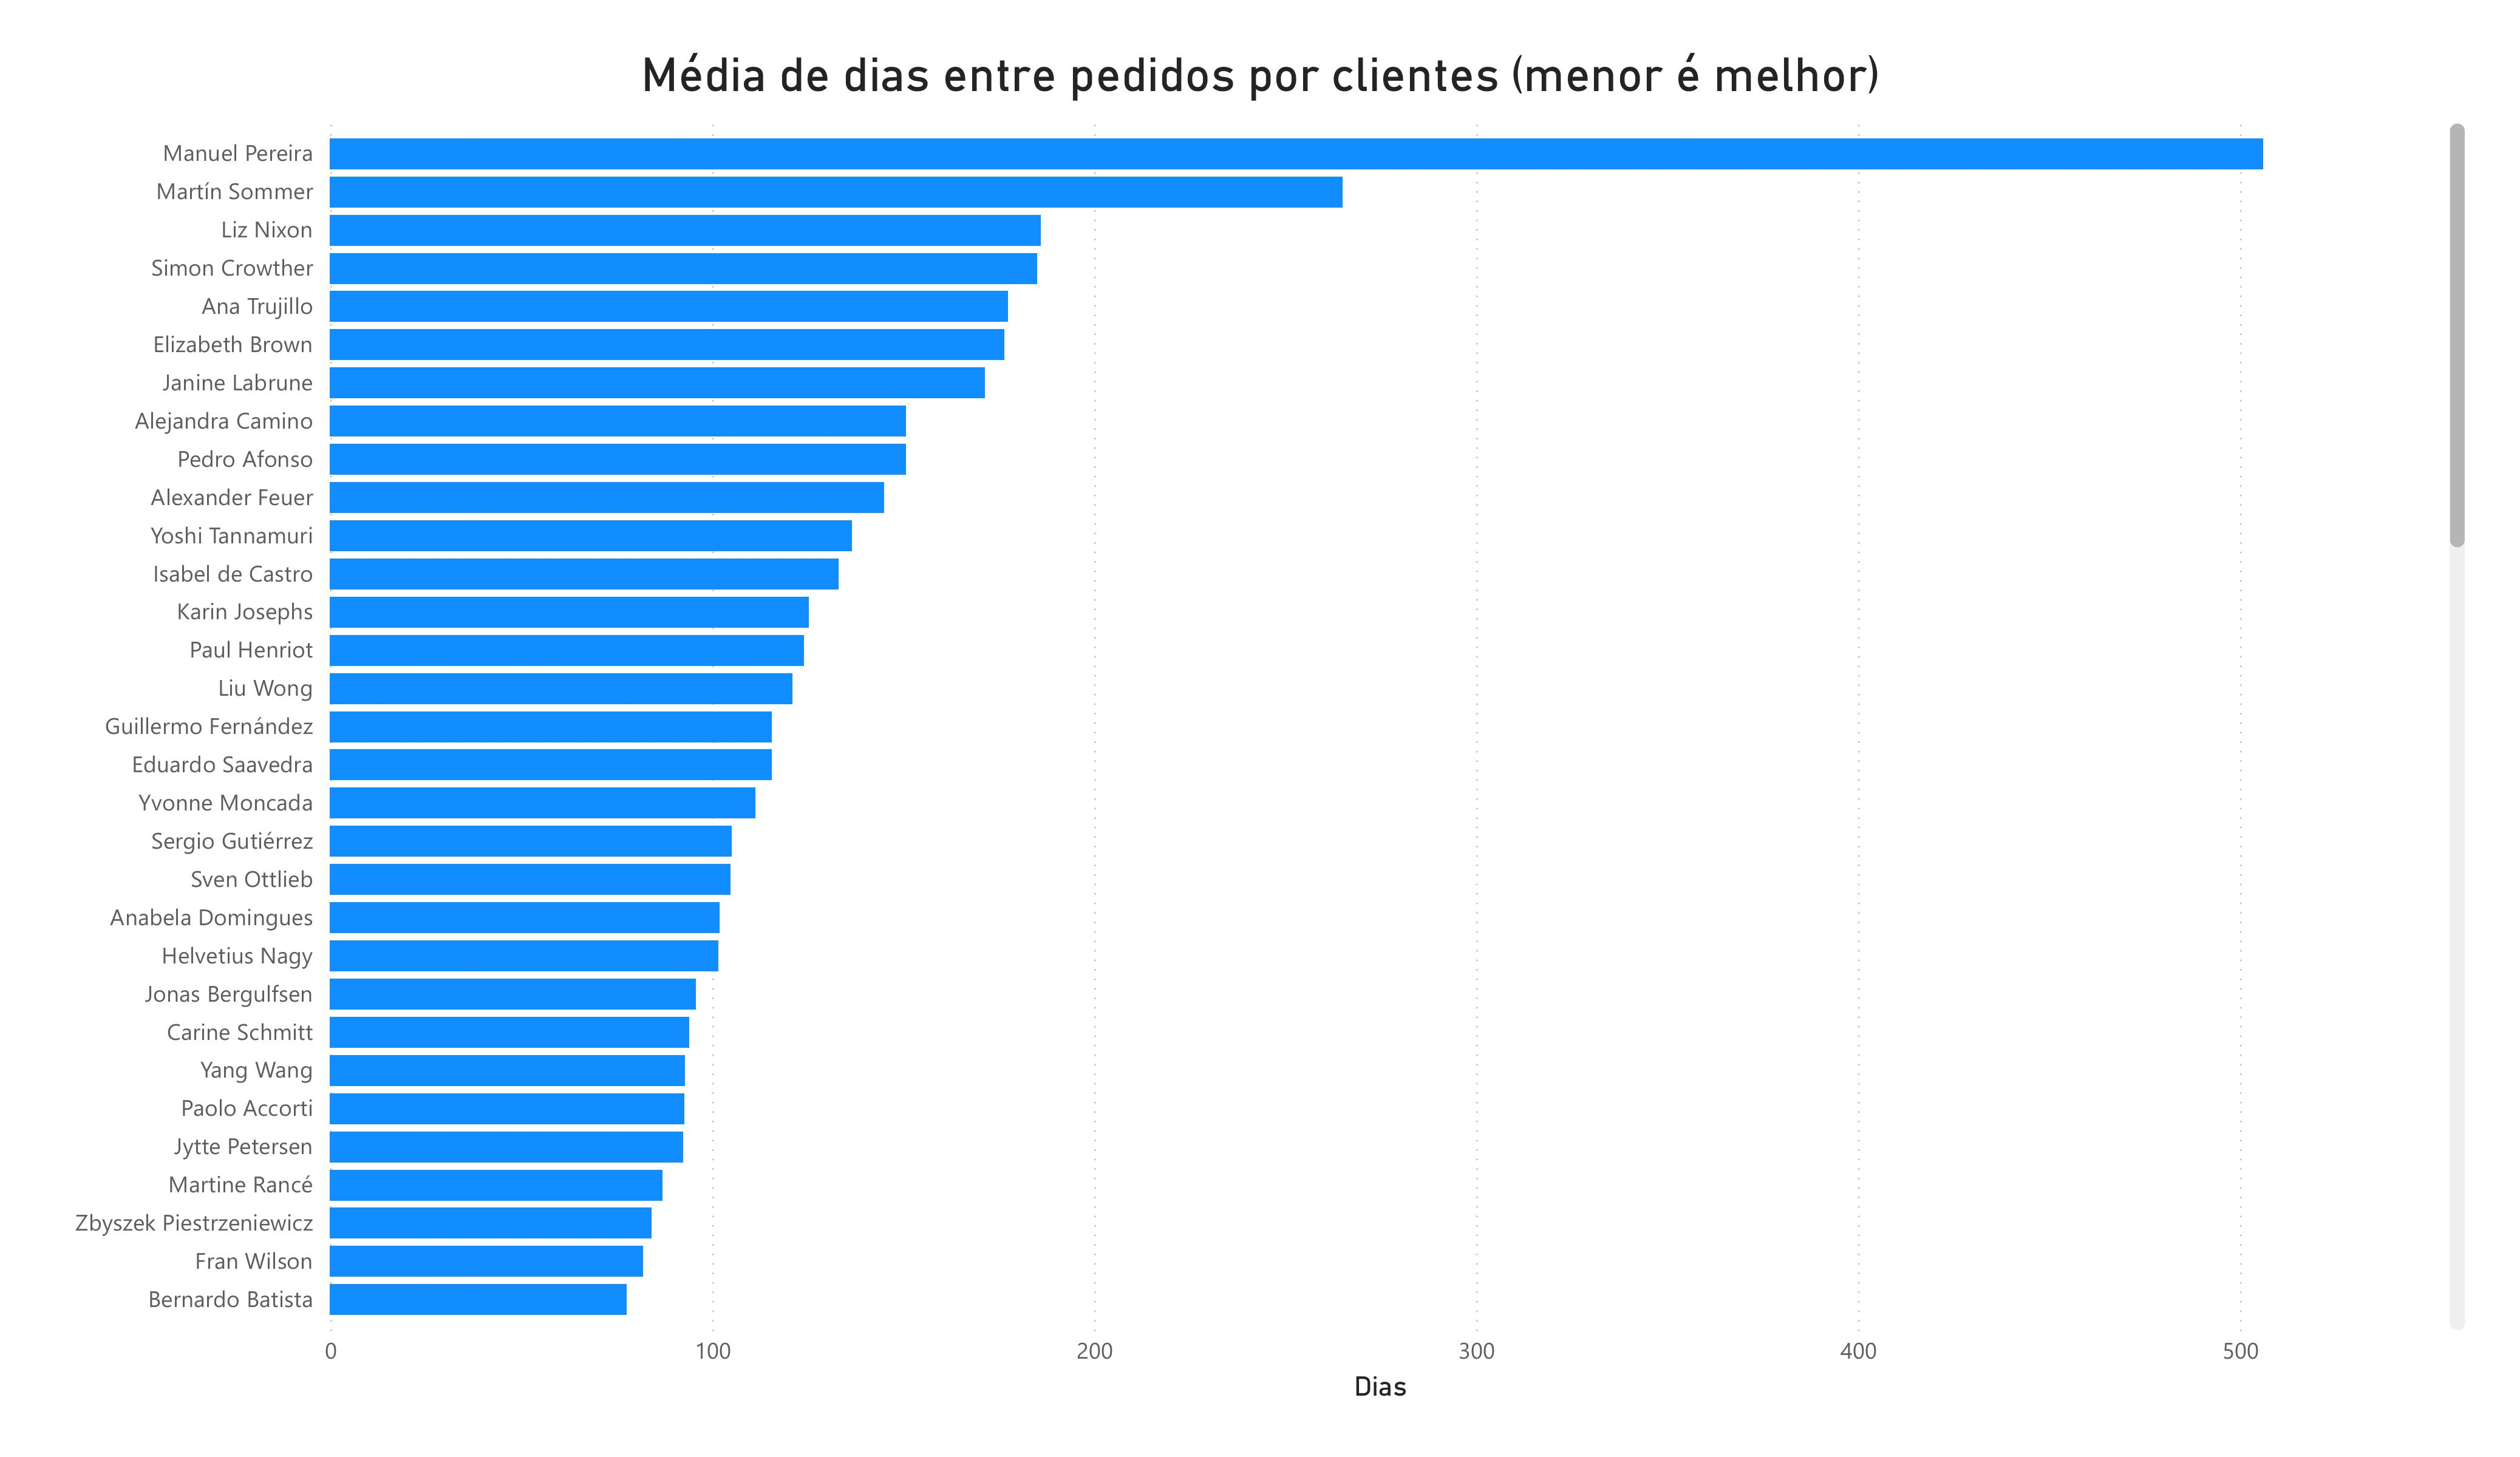

The dashboard page shown, as its layout file describes it:
{"tool":"powerbi","page":{"name":"Página 7","canvas":[1280,720],"ordinal":6},"visuals":[{"type":"barChart","title":"Média de dias entre pedidos por clientes (menor é melhor)","fields":{"Category":["dim_customer.ContactName"],"Y":["Avg(dim_customer.Avg_Days_Between_Orders)"]},"box":[0,0,1280.2,719.8],"z":0}]}

Visuals, with their boxes on the page's 1280x720 design canvas (x1, y1, x2, y2). These are canvas units, not pixel positions in the 2520x1457 screenshot, which may show the page scaled, cropped or inside an application window:
"Média de dias entre pedidos por clientes (menor é melhor)" barChart: BBox(0, 0, 1280, 720)
